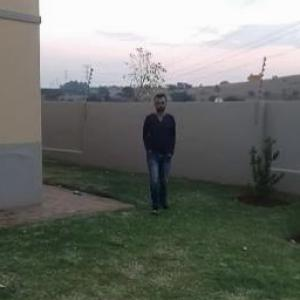follow: (137, 90, 179, 212)
